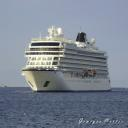cruises: (22, 25, 114, 95)
